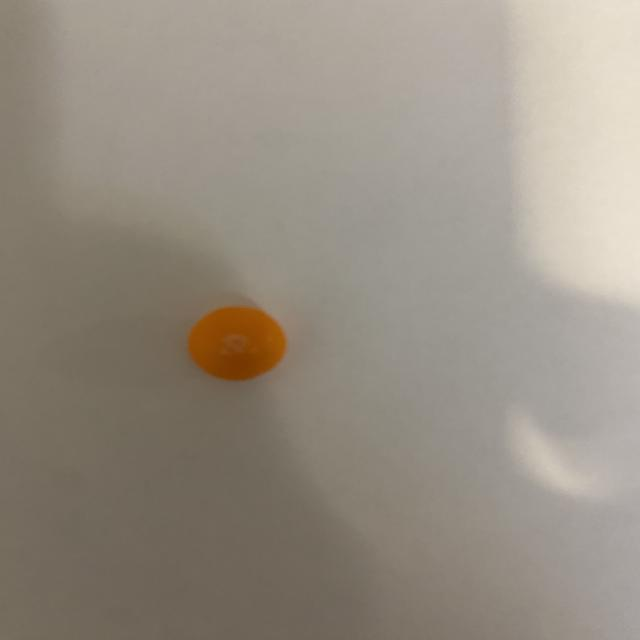smartie: (188, 307, 286, 380)
